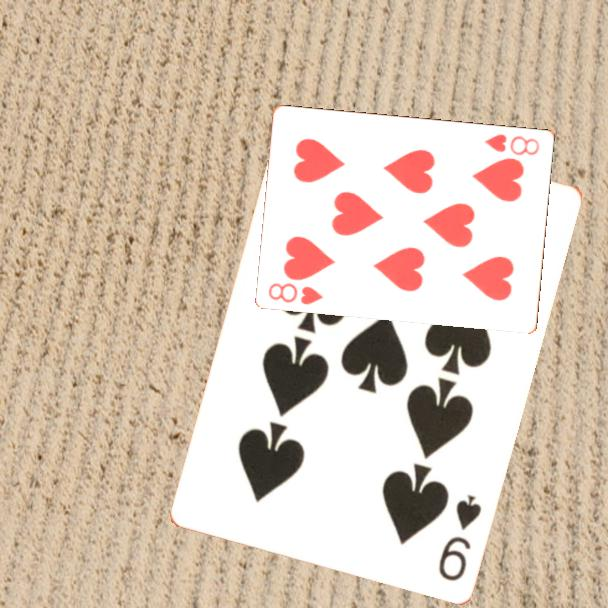h08: (481, 130, 542, 158), (265, 279, 326, 307)
s09: (434, 490, 484, 584)
